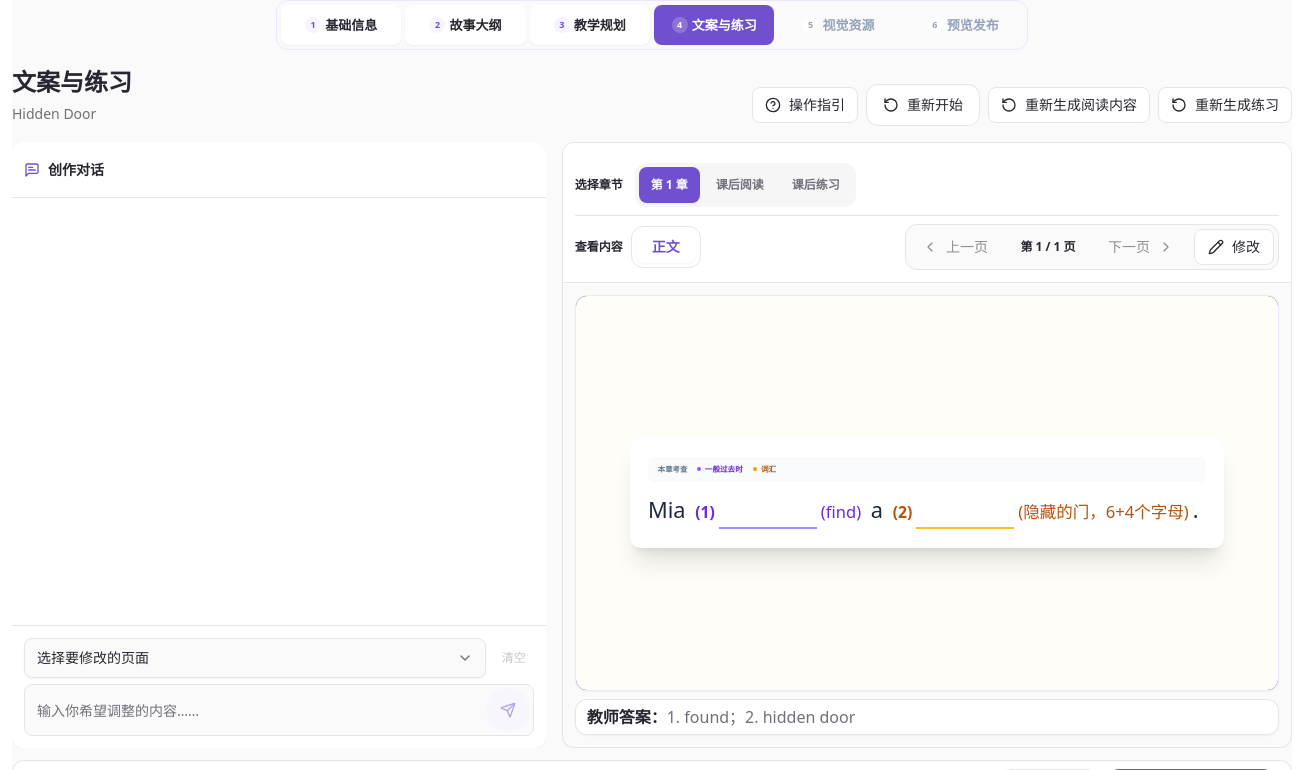
it: CourseContentWorkspace › keeps the preview operation slot stable between editable exercises and vocabulary matching
This screenshot has width=1304, height=770.
Step 1. Click the tab "课后练习" → (816, 185), box x1=780 y1=167 x2=852 y2=203
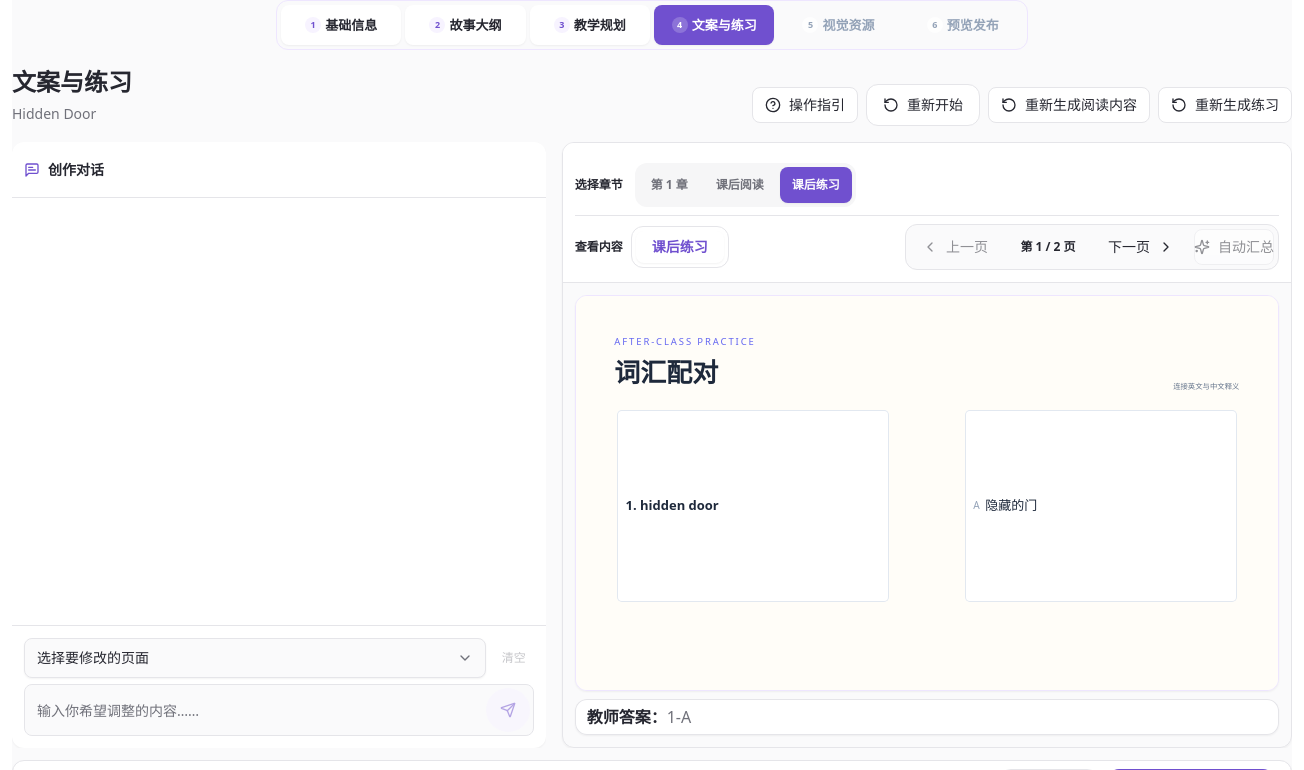
Now the button with aria-label "词汇配对由正文词汇自动汇总" is disabled, box x1=1194 y1=229 x2=1274 y2=265
Step 2. Click the button "下一页" → (1141, 247), box x1=1096 y1=229 x2=1186 y2=265
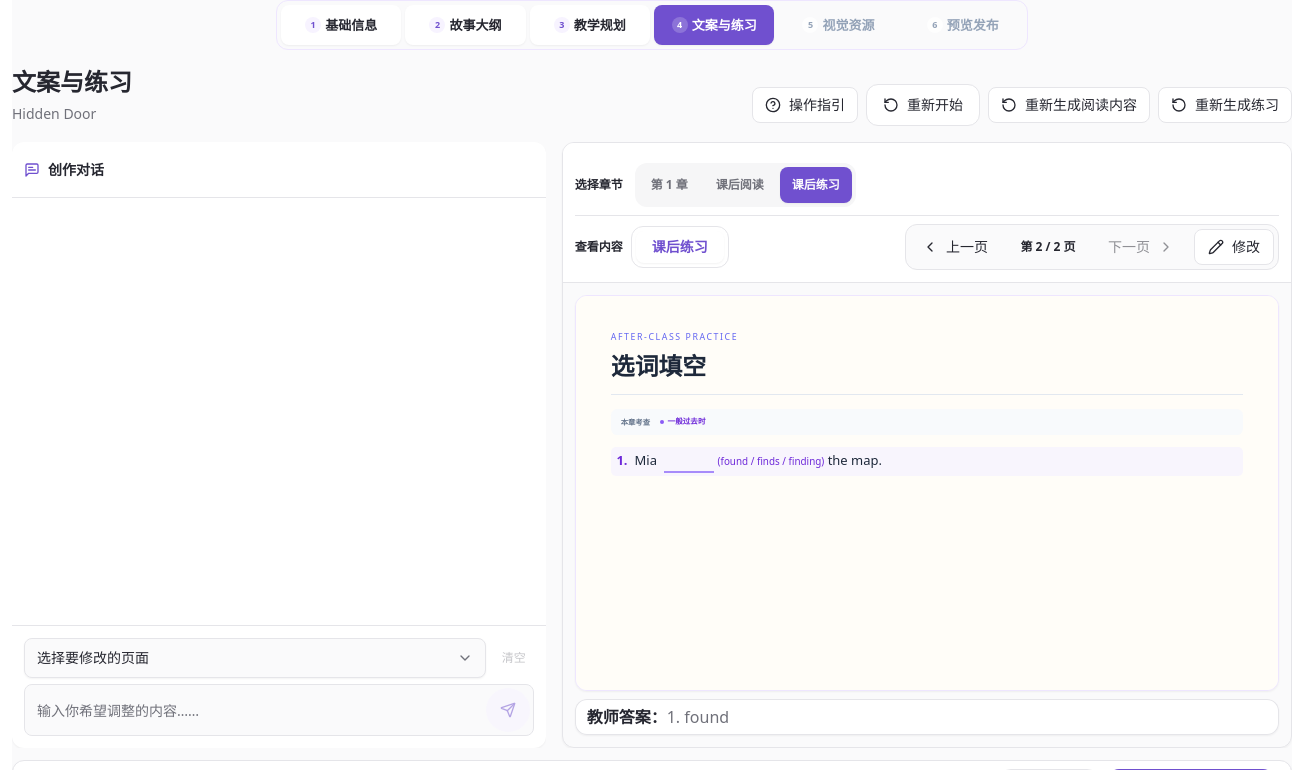
Now the text "第 2 / 2 页" is shown, box x1=1020 y1=238 x2=1076 y2=255
